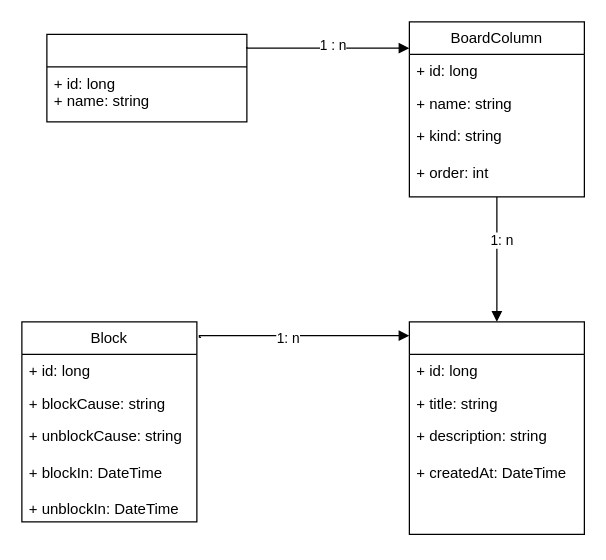
The diagram is 606 pixels wide and 560 high, and some of its shapes have lost their labels. Each missing label, with the box of its shape:
Board: (46, 33, 247, 122)
Card: (408, 321, 584, 534)
